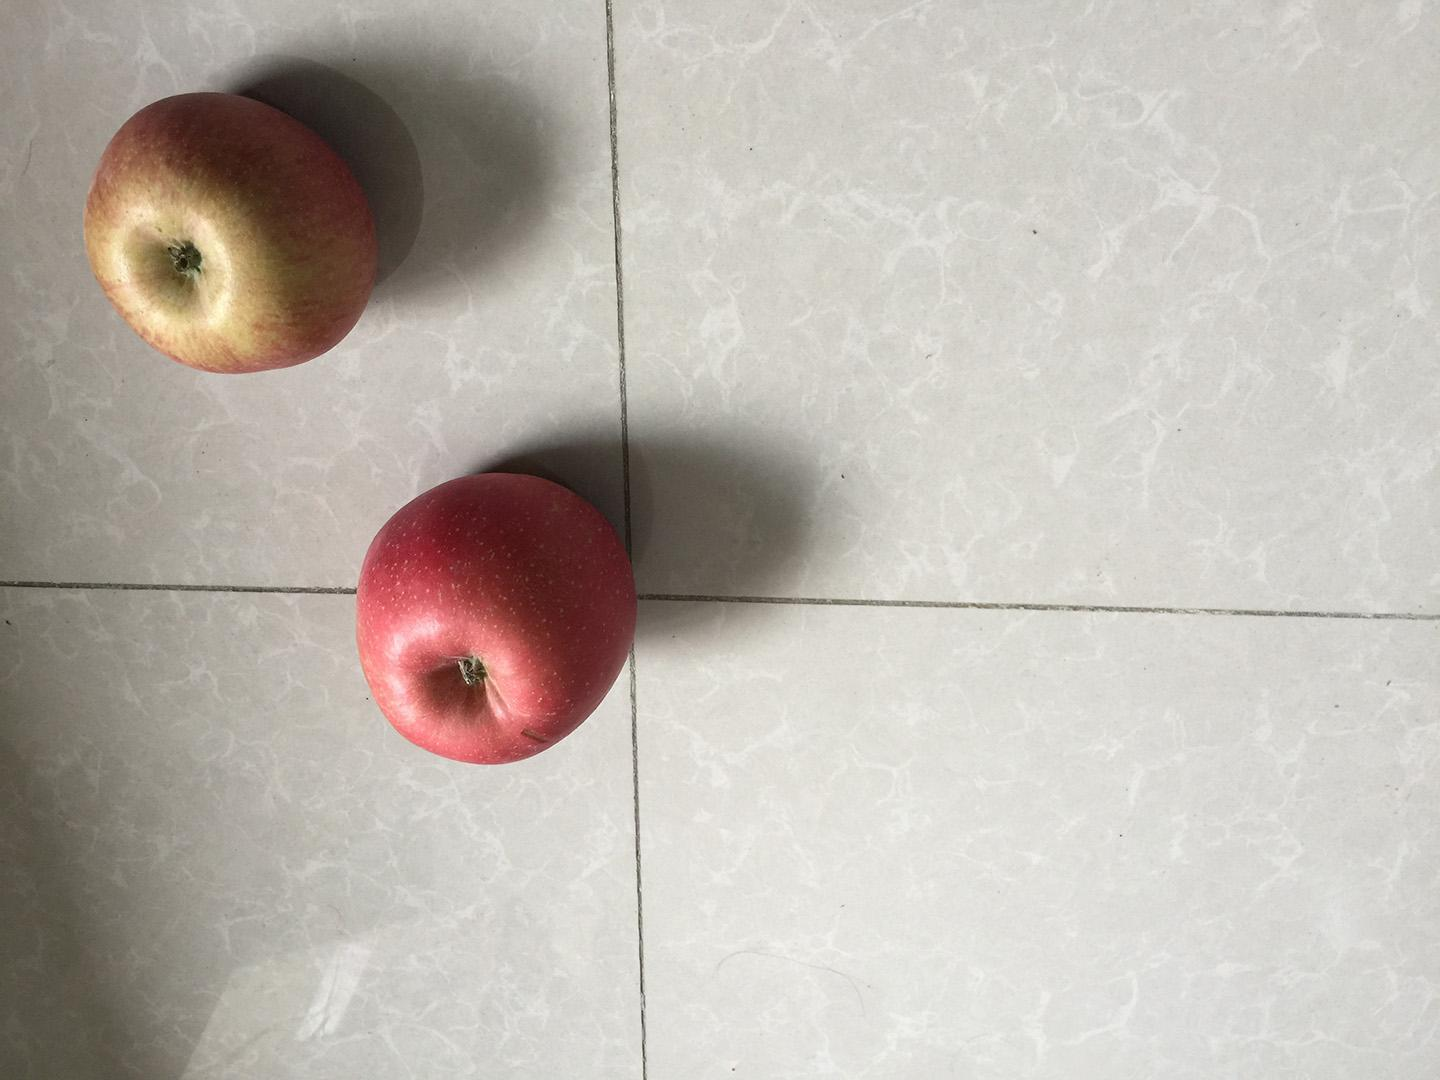apple: (348, 455, 646, 773), (76, 82, 381, 378)
